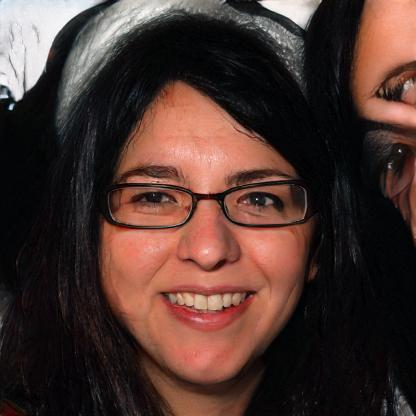glasses: (95, 176, 321, 231)
long-hair: (5, 382, 389, 415)
